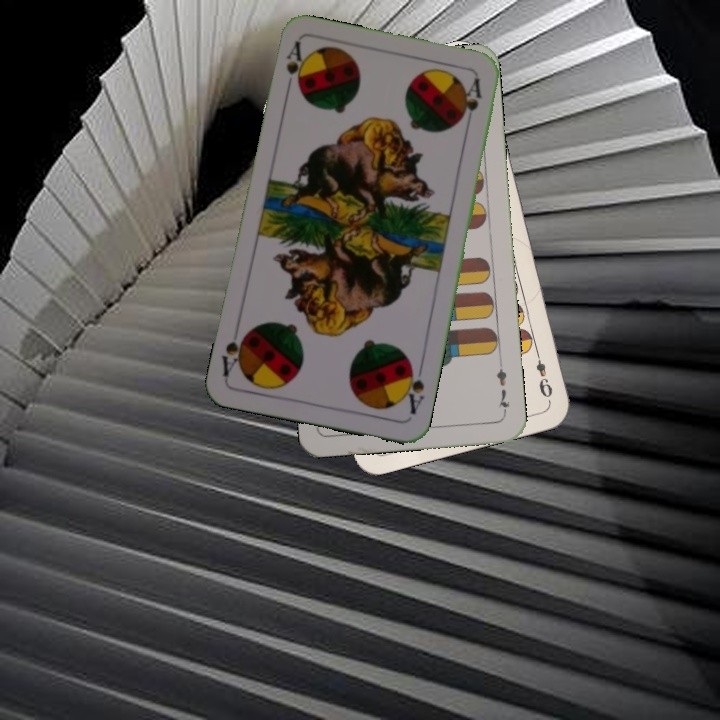E7: (492, 358, 513, 417)
E9: (531, 345, 555, 403)
SA: (398, 358, 427, 417), (281, 38, 307, 97)
